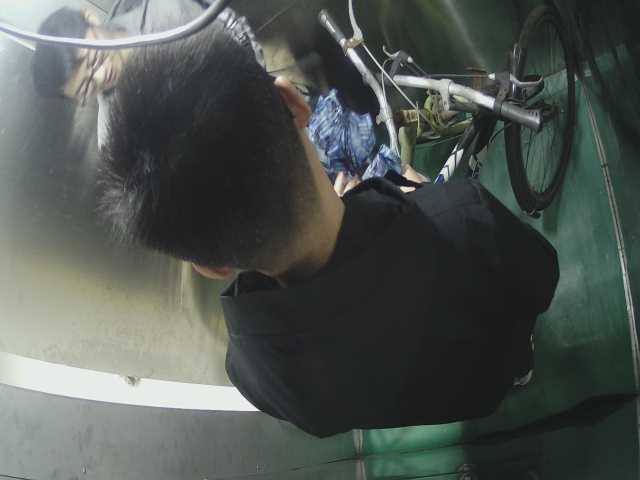bicycle: (308, 3, 595, 233)
person: (100, 29, 554, 398), (23, 5, 264, 85)
